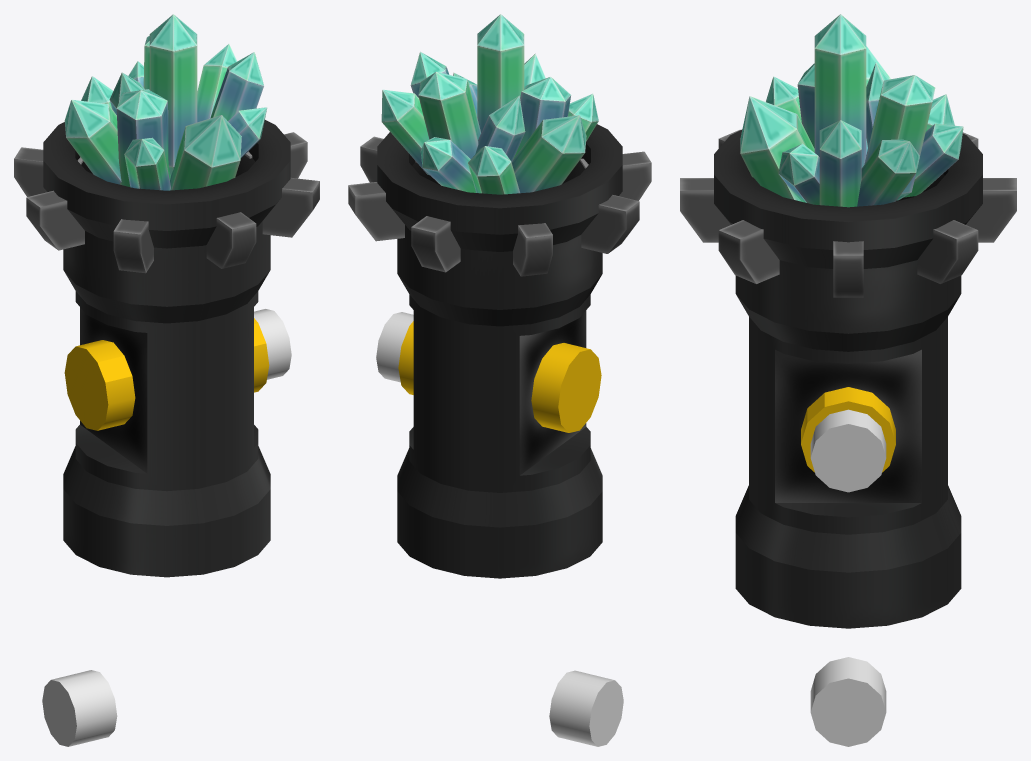
Rendered from Sonar Tower.FBX.
3 renders of one model, left to right at view 1: azimuth 30°, elevation 25°; view 2: azimuth 150°, elevation 25°; view 3: azimuth 270°, elevation 25°, orthographic. The views are drawn at different scales.
Parts seen in each view (by area): view 1: Cylinder001, Cylinder004, Cylinder003; view 2: Cylinder001, Cylinder004, Cylinder003; view 3: Cylinder001, Cylinder004, Cylinder003.
Part boxes in pixels (bbox=[...]): Cylinder001: bbox=[14, 14, 319, 577]; Cylinder004: bbox=[42, 670, 117, 746]; Cylinder003: bbox=[254, 309, 291, 379]; Cylinder001: bbox=[348, 14, 651, 578]; Cylinder004: bbox=[549, 670, 623, 746]; Cylinder003: bbox=[376, 312, 413, 382]; Cylinder001: bbox=[680, 14, 1016, 628]; Cylinder004: bbox=[810, 657, 886, 746]; Cylinder003: bbox=[810, 409, 886, 492].
Bounding box in the file's own units: 98.84 × 249 × 98.84.
